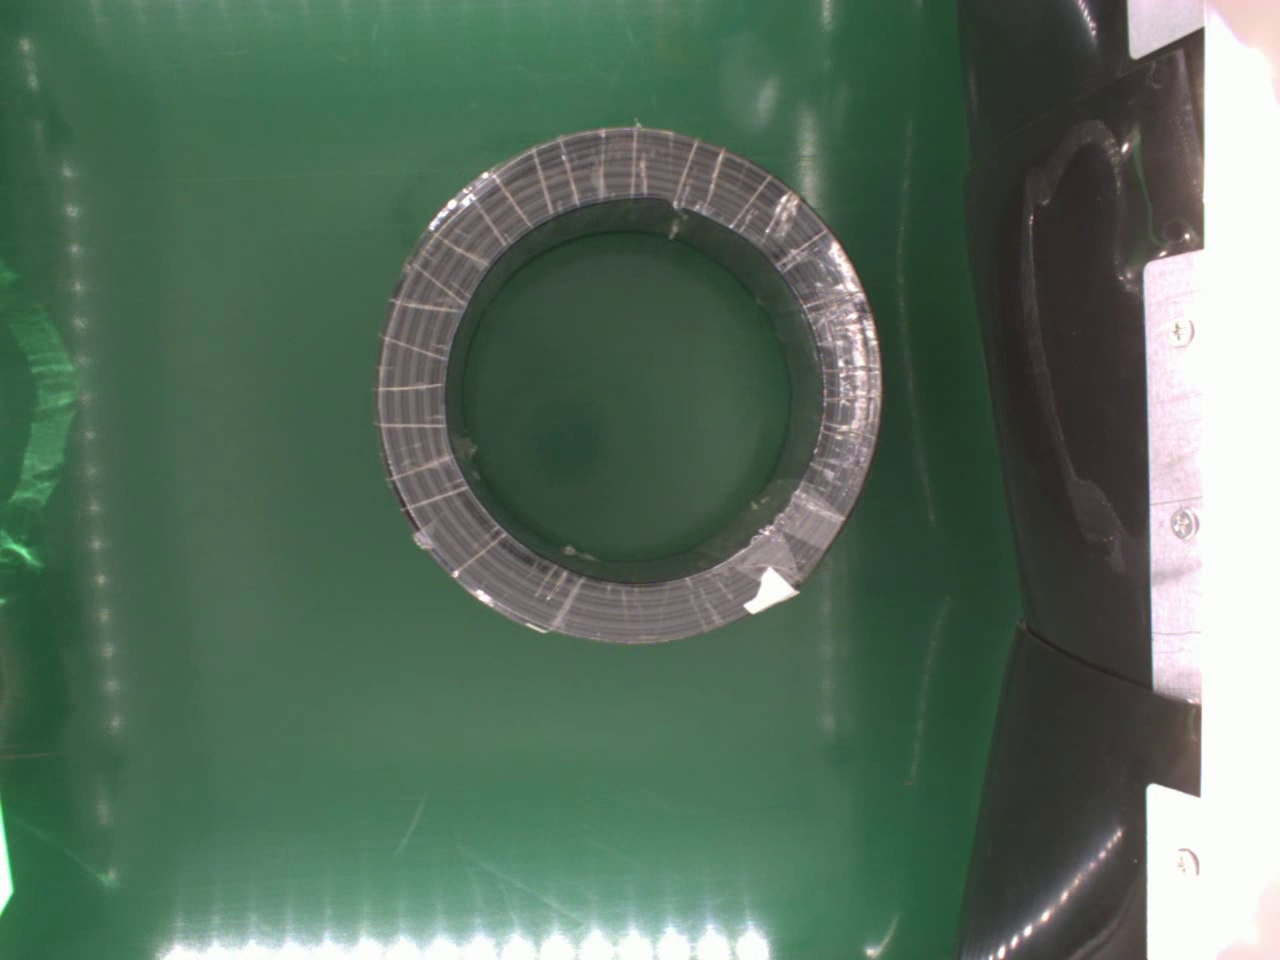black: (373, 121, 884, 644)
